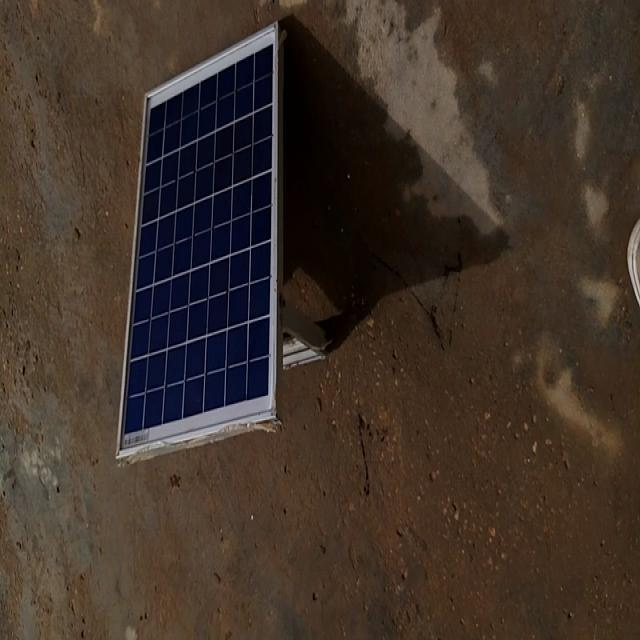Normal Solar Panel: (116, 21, 285, 463)
